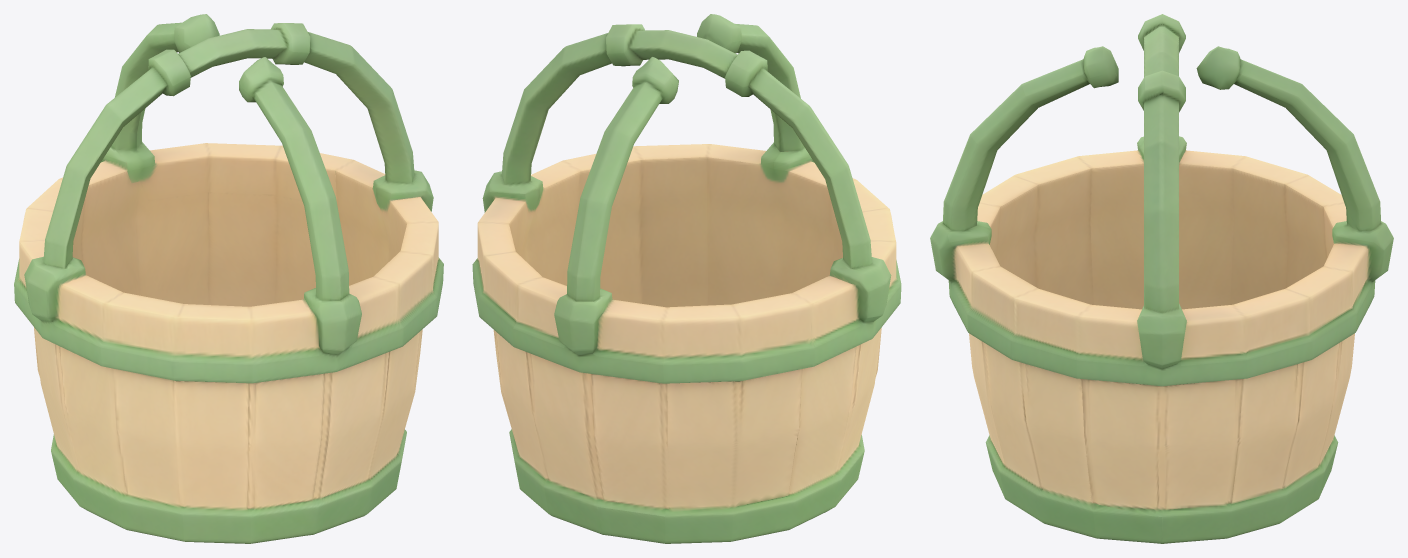
File: base_basic_shaded.fbx
The picture shows the model from 3 angles, left to right: view 1: azimuth 30°, elevation 25°; view 2: azimuth 150°, elevation 25°; view 3: azimuth 270°, elevation 25°; orthographic projection.
Parts seen in each view (by area): view 1: model; view 2: model; view 3: model.
Part boxes in pixels (x1,y1,x2,y2): model: (14,14,443,543); model: (472,14,901,543); model: (930,14,1393,543).
Bounding box in the file's own units: 179 × 187 × 182.
